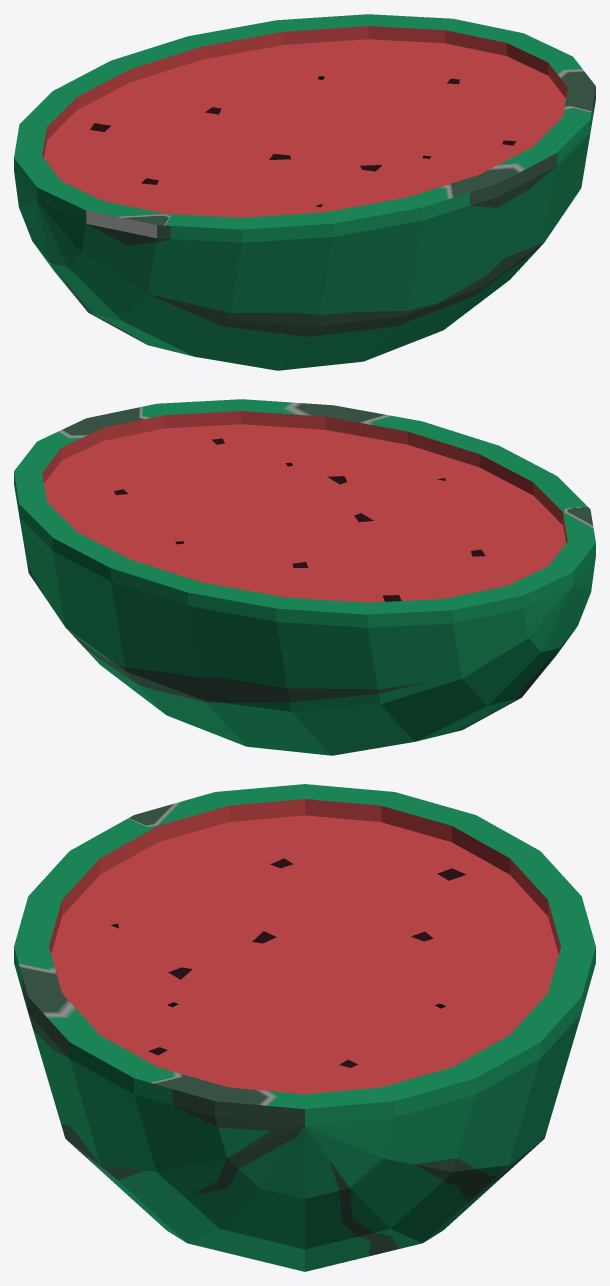
Rendered from watermelon_half.fbx.
3 views of the same model, one above another, from view 1: azimuth 30°, elevation 25°; view 2: azimuth 150°, elevation 25°; view 3: azimuth 270°, elevation 25° (orthographic). The views are drawn at different scales.
Parts seen in each view (by area): view 1: watermelon_half; view 2: watermelon_half; view 3: watermelon_half.
Boxes of the visible parts, bbox=[...] form: watermelon_half: bbox=[14, 14, 595, 370]; watermelon_half: bbox=[14, 399, 595, 755]; watermelon_half: bbox=[14, 784, 595, 1271].
Bounding box in the file's own units: 264 × 106 × 200.
